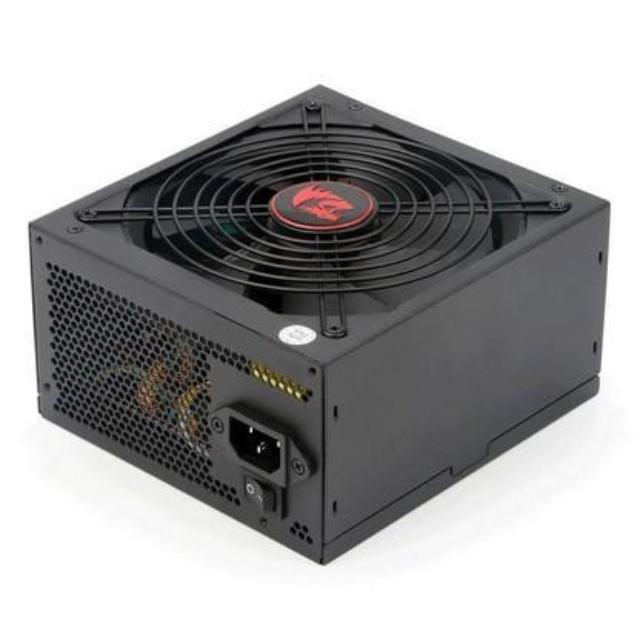PSU: (21, 81, 608, 570)
